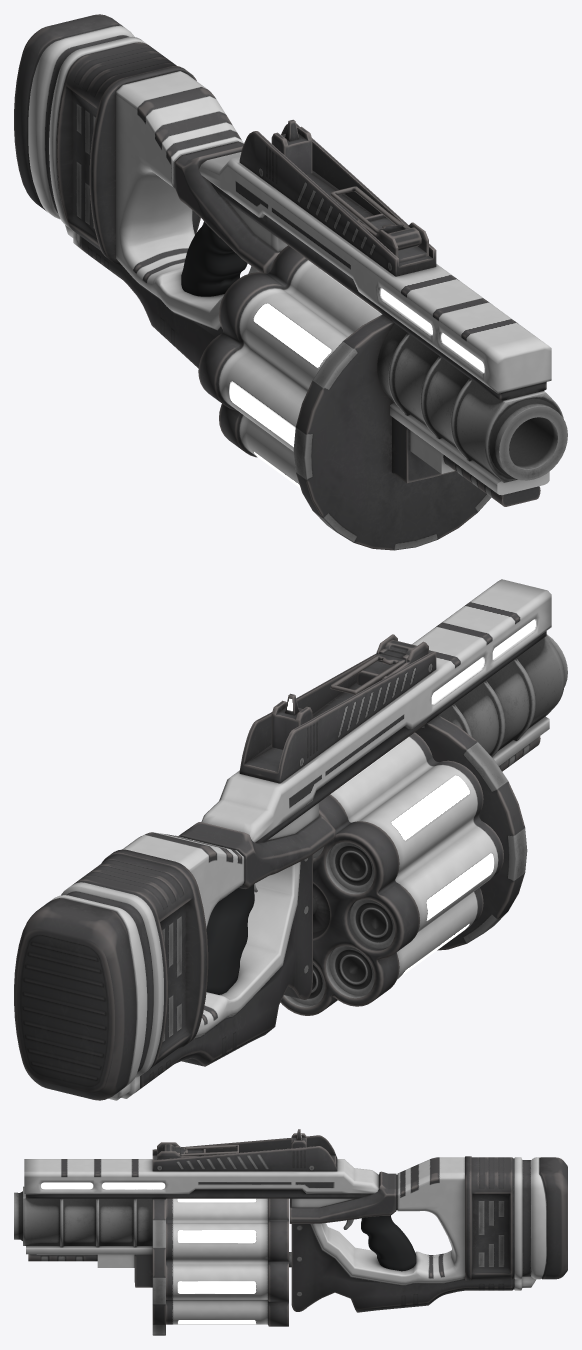
Rendered from SciFiGrenadeLauncher01_1.FBX.
3 renders of one model, top to bottom at view 1: azimuth 30°, elevation 25°; view 2: azimuth 150°, elevation 25°; view 3: azimuth 270°, elevation 25°, orthographic. The views are drawn at different scales.
Visible parts, largest first — view 1: SciFiGrenadeLauncher01_1; view 2: SciFiGrenadeLauncher01_1; view 3: SciFiGrenadeLauncher01_1.
Part boxes in pixels (<box>): SciFiGrenadeLauncher01_1: <box>14,14,567,550</box>; SciFiGrenadeLauncher01_1: <box>14,579,567,1100</box>; SciFiGrenadeLauncher01_1: <box>14,1129,567,1335</box>.
Size of what is drawn, in the model's own units: 0.2416 by 0.3477 by 0.8794.
